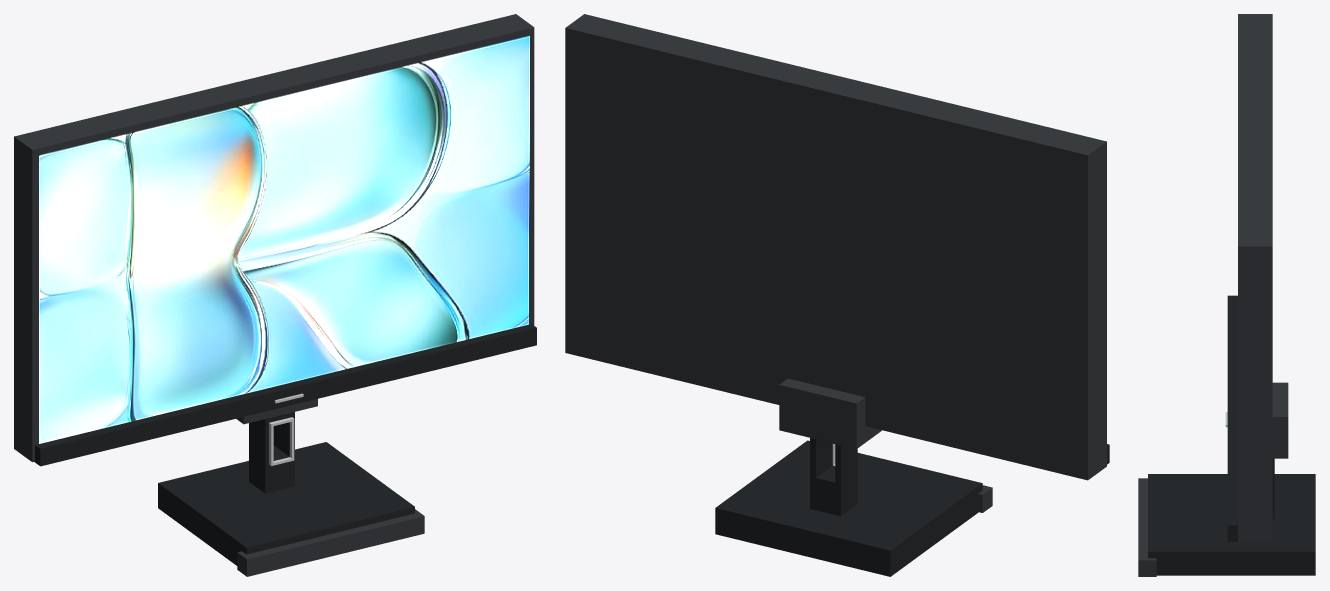
File: monitor-24.glb
3 renders of one model, left to right at view 1: azimuth 30°, elevation 25°; view 2: azimuth 150°, elevation 25°; view 3: azimuth 270°, elevation 25°, orthographic. The views are drawn at different scales.
Parts seen in each view (by area): view 1: Screen, Display housing, Weighted base, Lower bezel, Base front edge, Stand lower bridge, Stand left rail; view 2: Display housing, Weighted base, Tilt mount, Stand lower bridge, Stand left rail, Stand right rail; view 3: Display housing, Weighted base, Lower bezel, Tilt mount, Base front edge.
Boxes of the visible parts, <box> form: Screen: <box>39,35,529,443</box>; Display housing: <box>14,14,534,462</box>; Weighted base: <box>158,442,414,565</box>; Lower bezel: <box>34,324,536,466</box>; Base front edge: <box>237,509,424,576</box>; Stand lower bridge: <box>249,445,294,493</box>; Stand left rail: <box>249,421,268,462</box>; Display housing: <box>565,14,1106,480</box>; Weighted base: <box>715,440,982,576</box>; Tilt mount: <box>779,378,881,448</box>; Stand lower bridge: <box>810,465,857,516</box>; Stand left rail: <box>835,444,857,483</box>; Stand right rail: <box>810,438,832,477</box>; Display housing: <box>1238,14,1272,542</box>; Weighted base: <box>1148,474,1315,575</box>; Lower bezel: <box>1227,295,1237,541</box>; Tilt mount: <box>1272,382,1288,458</box>; Base front edge: <box>1138,478,1156,576</box>.
Size of the model in its own units: 0.54 by 0.441 by 0.1745.
Materials: 4 (1 with a texture image).
